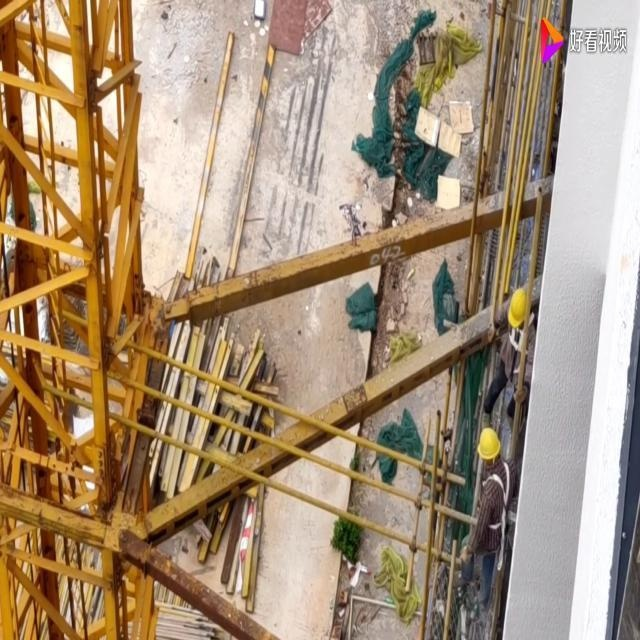Arnes_seguridad: (480, 458, 511, 535), (506, 306, 535, 358)
